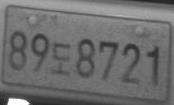1: (144, 45, 164, 86)
2: (121, 41, 140, 84)
7: (97, 40, 118, 80)
8: (75, 38, 96, 78), (8, 30, 28, 71)
9: (30, 32, 49, 70)
도: (50, 41, 71, 76)
